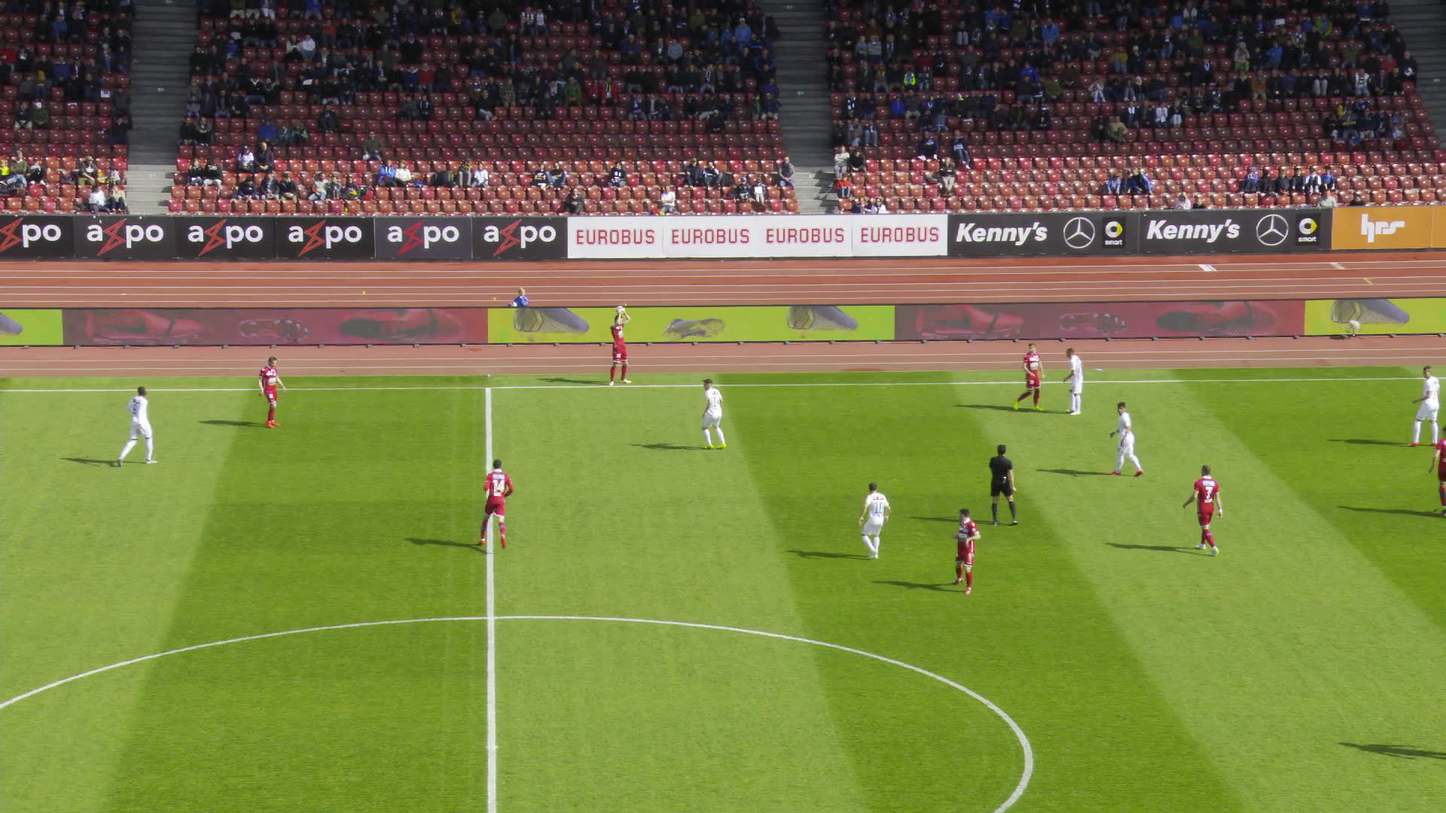ball: (615, 306, 624, 313)
player: (1184, 463, 1222, 556), (477, 461, 514, 553), (1409, 427, 1445, 519), (119, 383, 157, 465), (856, 481, 891, 561), (947, 505, 978, 592), (1408, 365, 1441, 446), (1107, 401, 1139, 477), (254, 357, 285, 430), (696, 379, 727, 449), (1015, 342, 1045, 410), (1060, 346, 1085, 415), (608, 308, 630, 385)
referee: (987, 443, 1019, 525)
